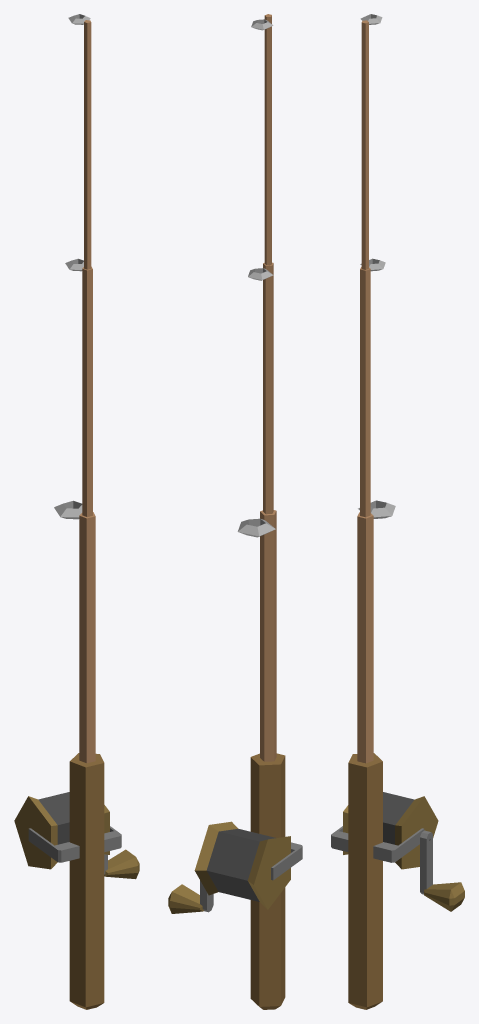
Rendered from fishing_rod_textured.fbx.
3 views of the same model, side by side, from view 1: azimuth 30°, elevation 25°; view 2: azimuth 150°, elevation 25°; view 3: azimuth 330°, elevation 25° (orthographic).
Visible parts, largest first — view 1: Cube.005; view 2: Cube.005; view 3: Cube.005.
Boxes of the visible parts, box(x1,y1,x2,y2) form: Cube.005: box(14, 14, 139, 1009); Cube.005: box(168, 14, 302, 1009); Cube.005: box(331, 14, 464, 1009).
Size of the model in its own units: 87.37 by 800 by 75.84.
